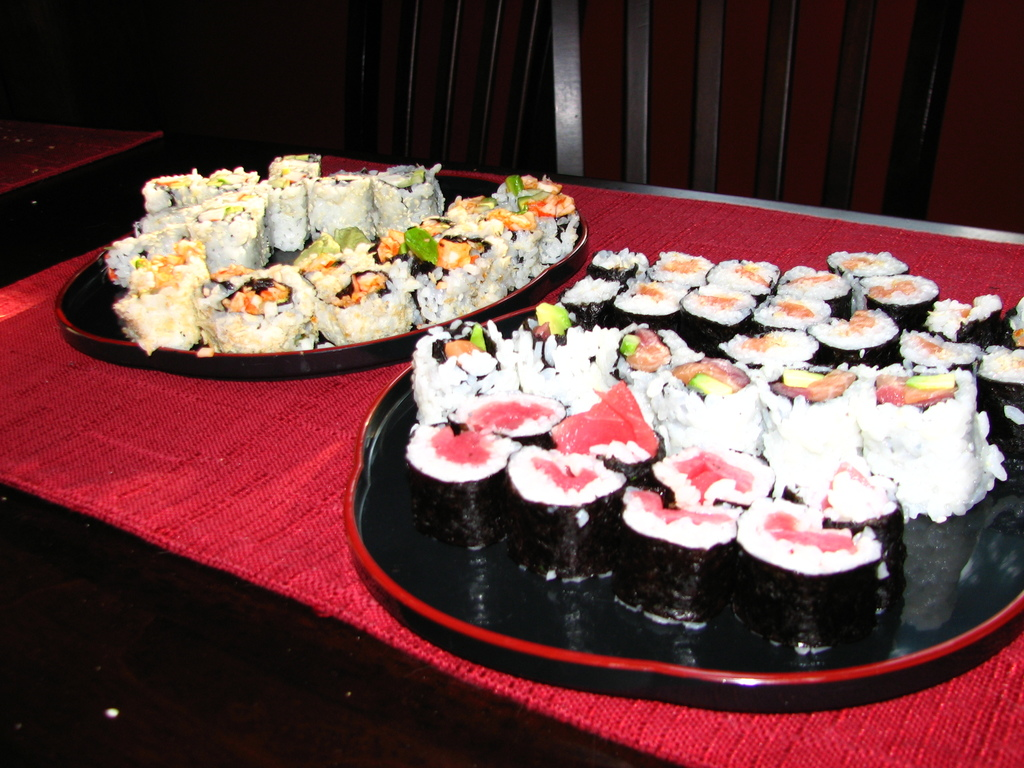sushi: (407, 248, 1022, 646), (105, 150, 580, 351), (404, 417, 521, 542)
